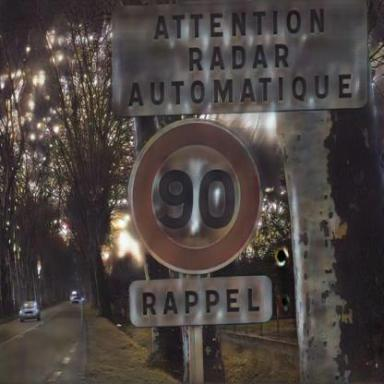Speed_limit_90: (131, 126, 259, 267)
